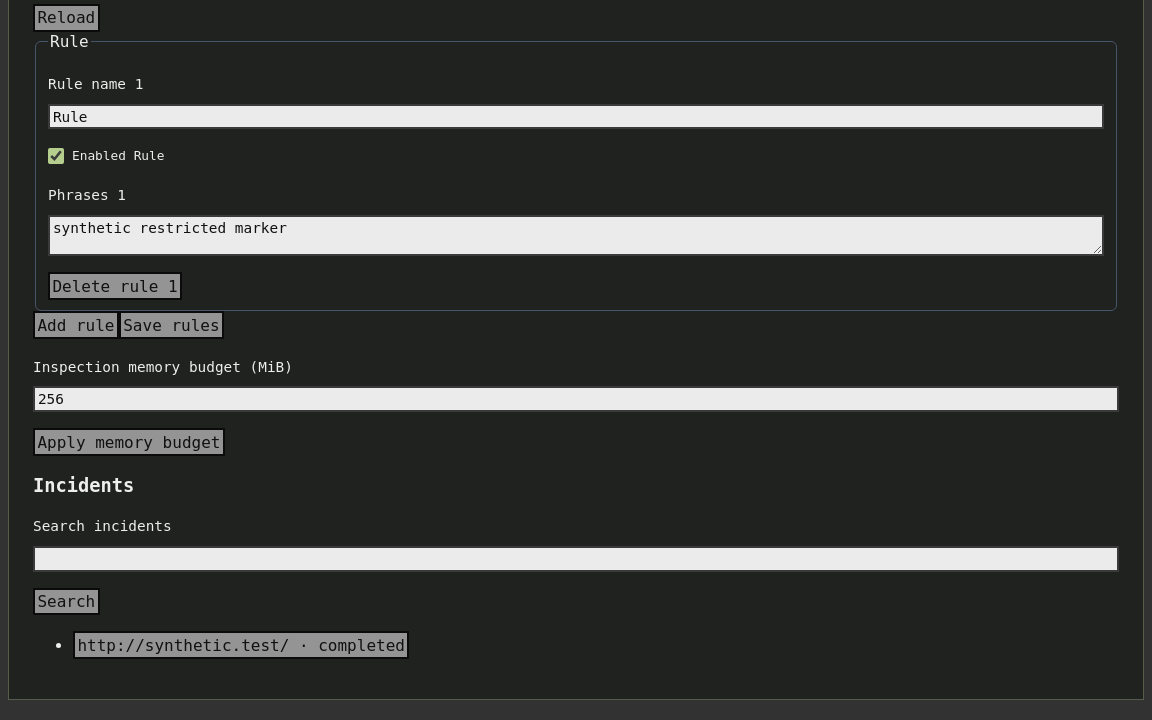
it: loads report pages separately and exports the full server record
(page scrolled)
Step 1. Click the button "http://synthetic.test/ · completed" → coordinates (241, 645), box [73, 631, 409, 659]
(page scrolled)
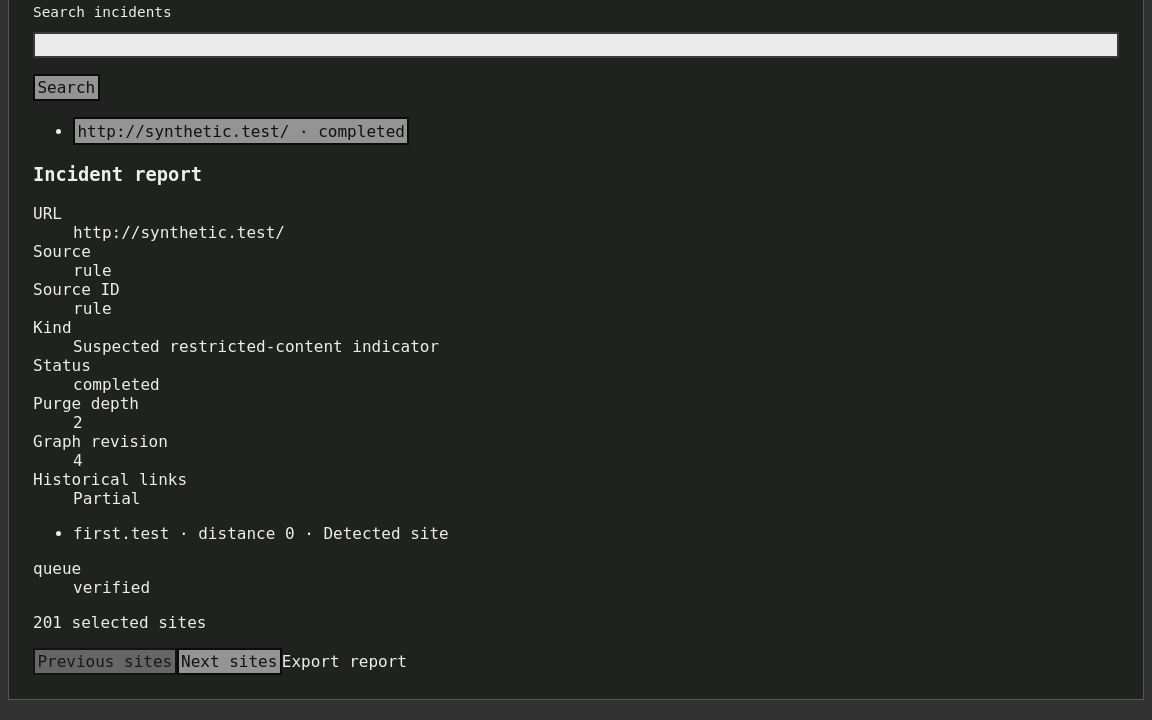
Result: the list item "first.test · distance 0 · Detected site" is shown at [73, 524, 449, 543]
Step 2. Click the button "Next sites" → coordinates (229, 662), box [177, 648, 282, 676]
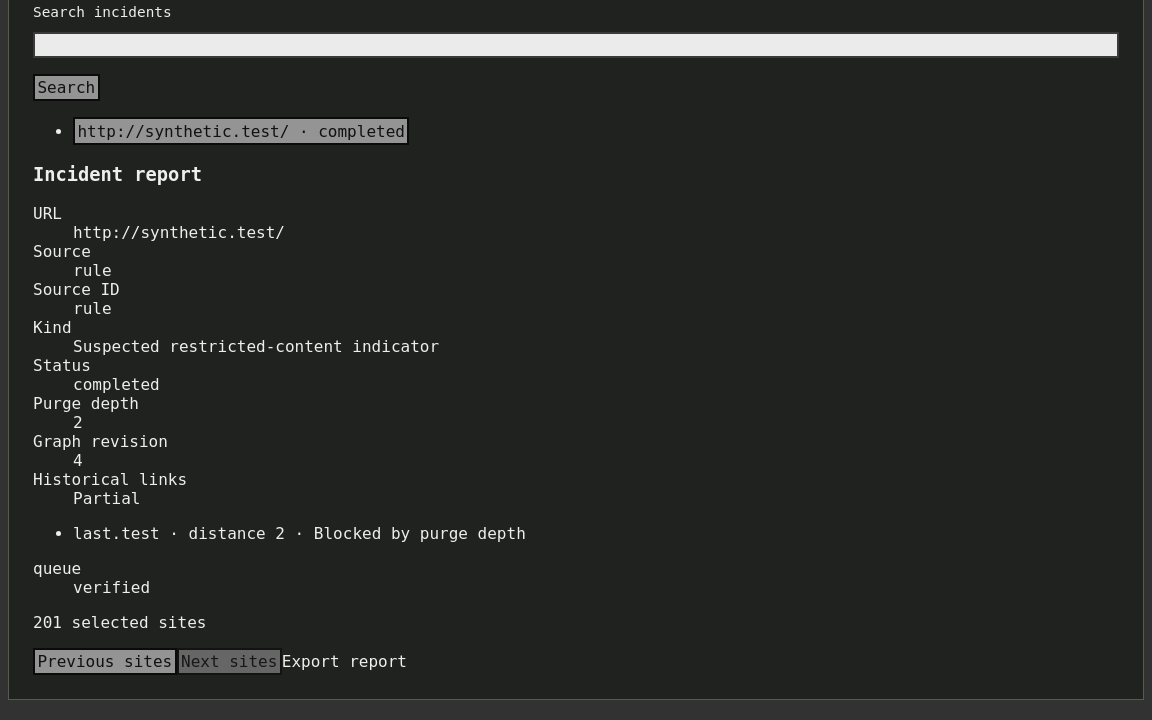
Result: the list item "last.test · distance 2 · Blocked by purge depth" is shown at [73, 524, 526, 543]
Result: the button "Next sites" is disabled at [177, 648, 282, 676]
